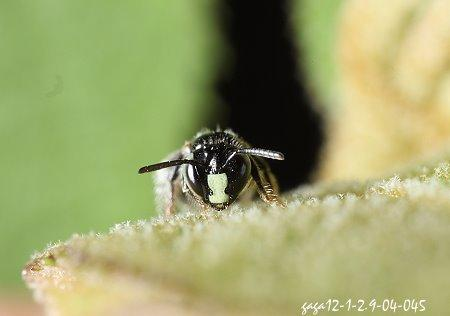Braunsapis: (126, 116, 294, 225)
